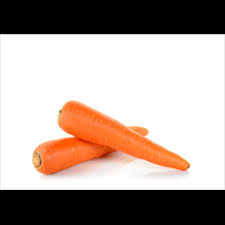carrot: (50, 101, 188, 169), (24, 120, 157, 176)
